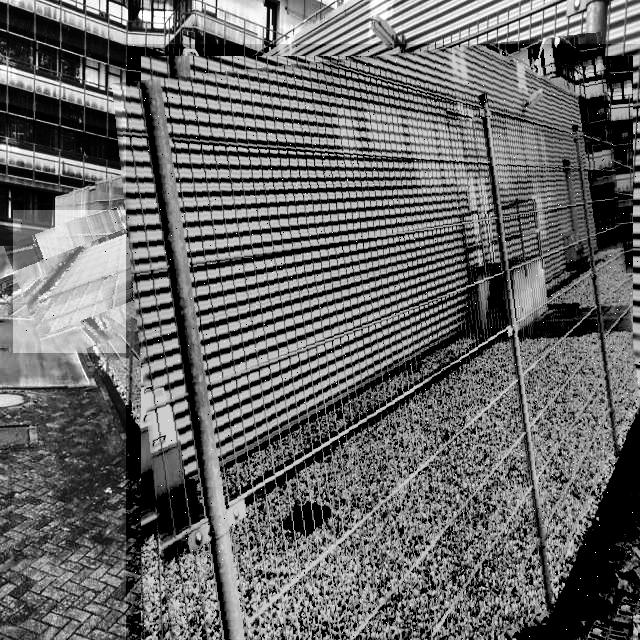fences: (126, 44, 640, 640), (13, 210, 157, 353)
